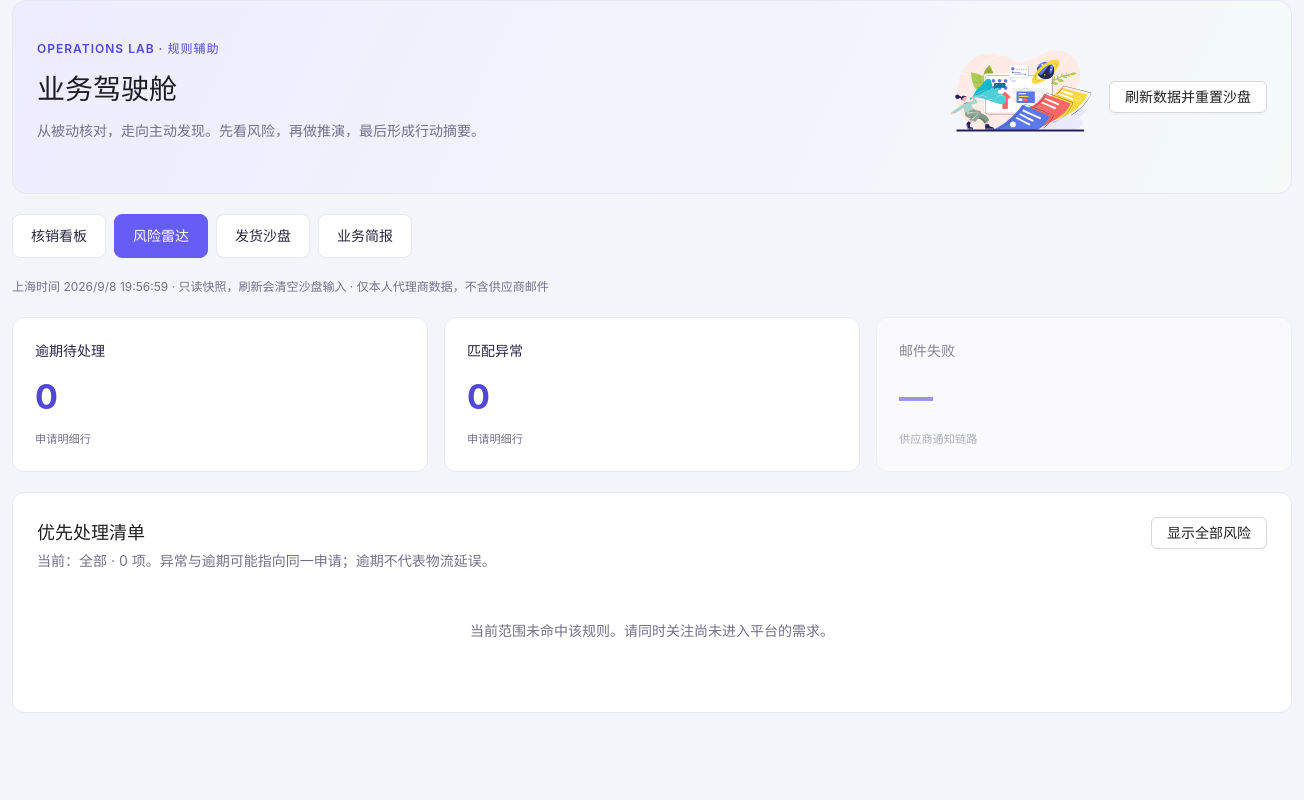
Test case: 业务驾驶舱 › hides prior snapshot on refresh failure and allows retry
This screenshot has width=1304, height=800.
Click the button "刷新数据并重置沙盘": (1188,97) [1109,81,1267,113]
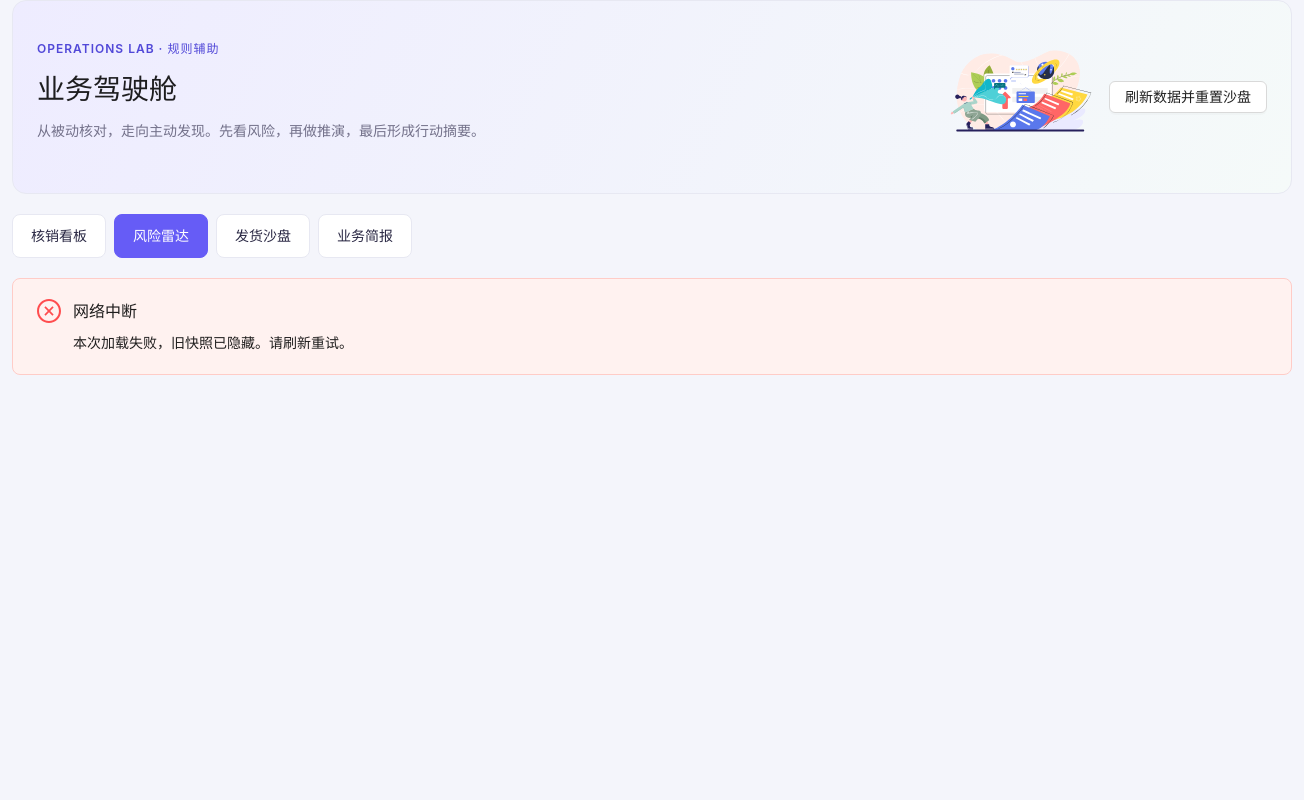
Expected: the text "网络中断" is shown, [73,301,137,321]
Click the button "刷新数据并重置沙盘": (1188,97) [1109,81,1267,113]
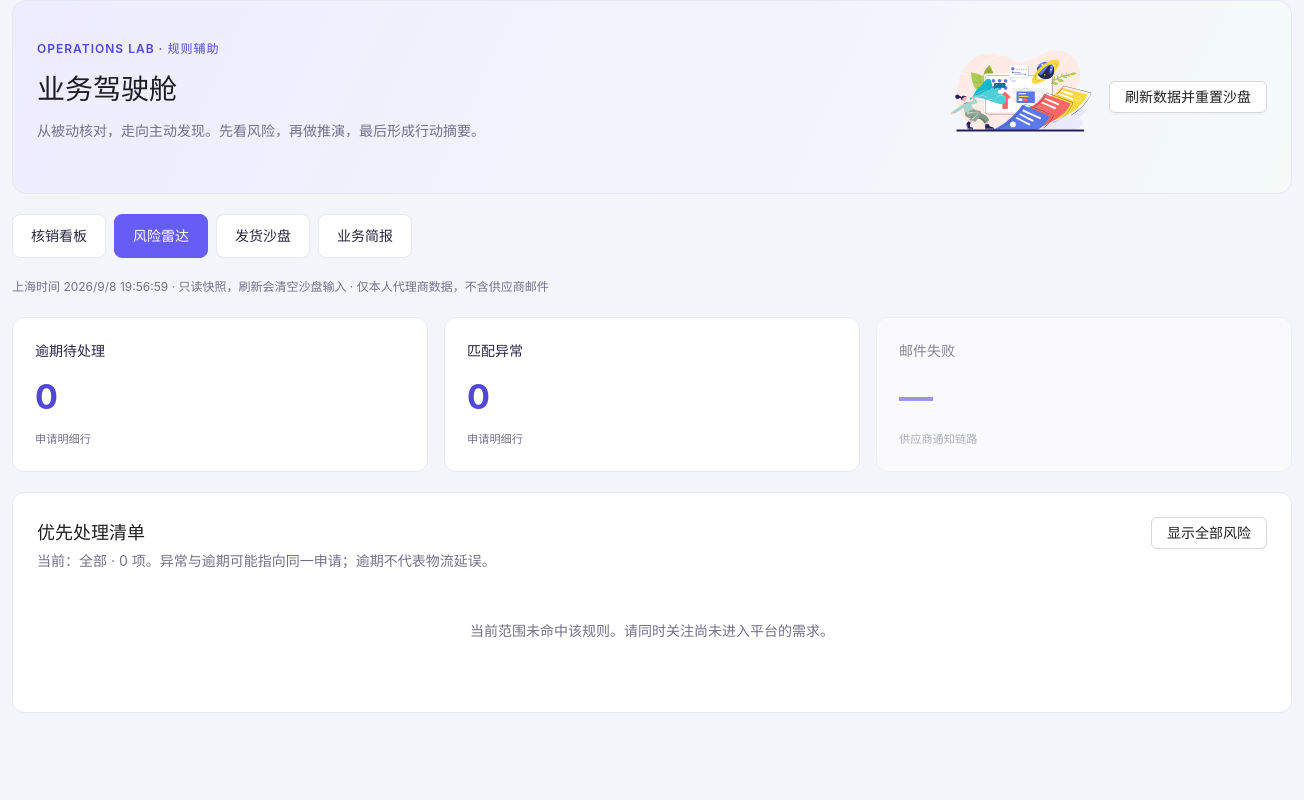
Expected: the element with class "operations-metrics" is shown, [12,317,1292,472]
